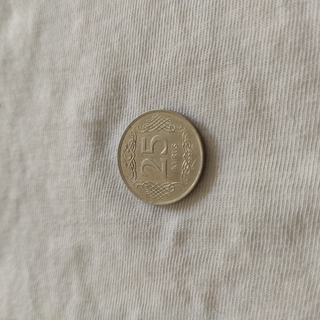25KURUS: (115, 108, 207, 206)
